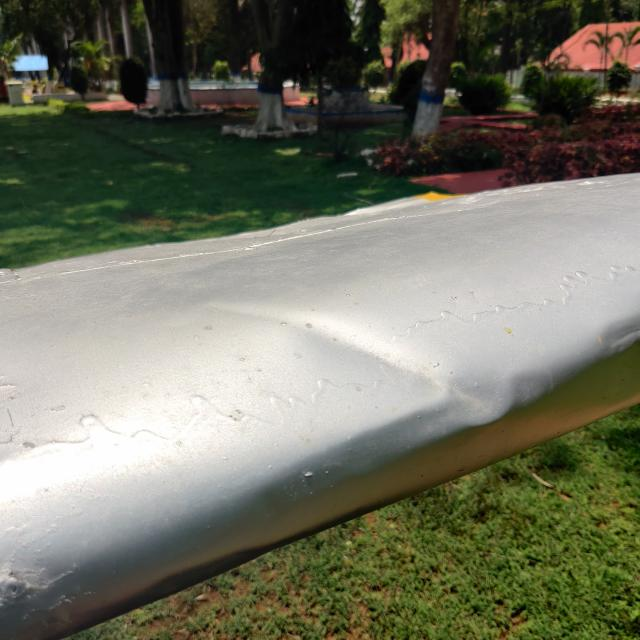dent: (254, 286, 565, 467), (584, 311, 640, 371)
